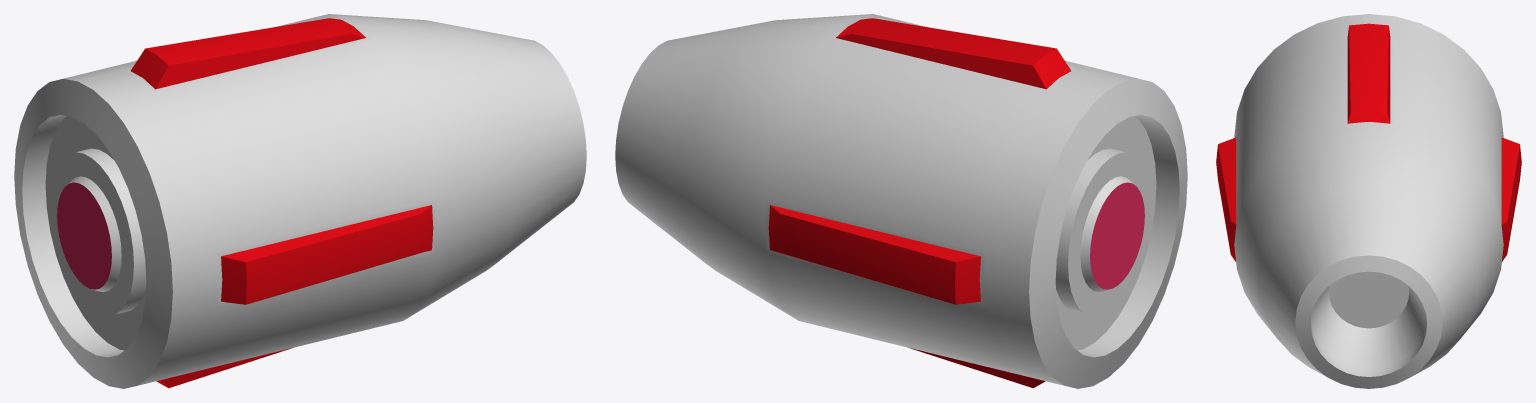
File: bullets.fbx
3 views of the same model, side by side, from view 1: azimuth 30°, elevation 25°; view 2: azimuth 150°, elevation 25°; view 3: azimuth 270°, elevation 25° (orthographic). The views are drawn at different scales.
Parts seen in each view (by area): view 1: Cylinder; view 2: Cylinder; view 3: Cylinder.
Part boxes in pixels (<box>): Cylinder: <box>14,14,586,388</box>; Cylinder: <box>615,14,1187,388</box>; Cylinder: <box>1216,14,1521,388</box>.
Bounding box in the file's own units: 338 × 227 × 227.
